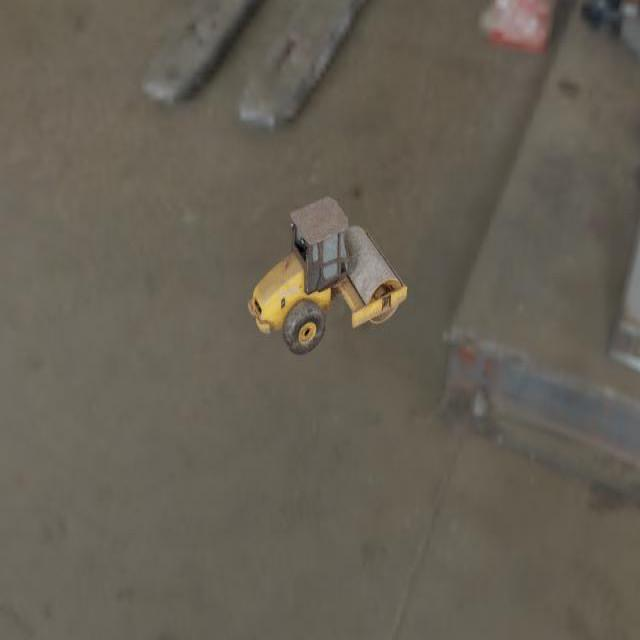Roller: (247, 196, 407, 355)
